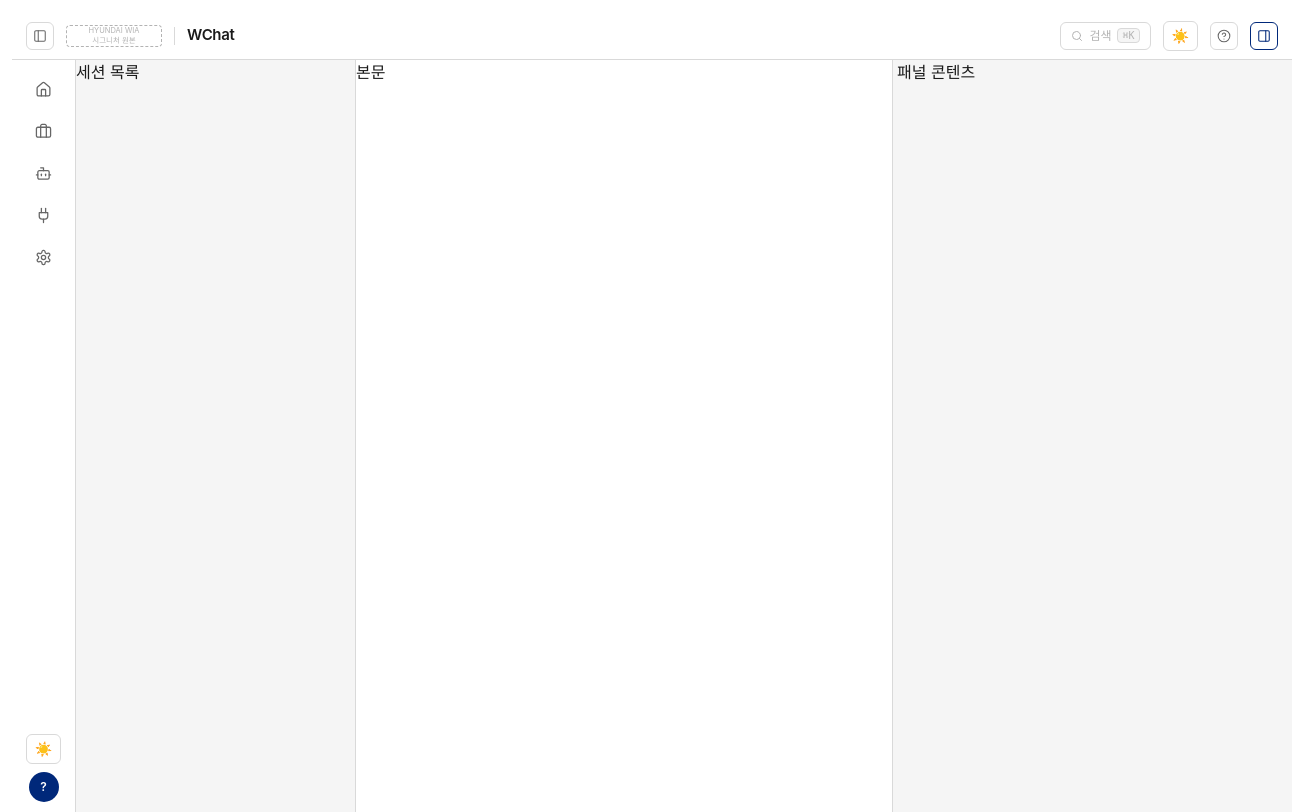
Test: AppShell › 우패널 토글 버튼 클릭 시 우패널이 사라졌다 다시 나타난다
Expected: the element with test id "app-shell-right-panel" is shown, x1=892 y1=60 x2=1291 y2=811
Click the button with test id "app-shell-panel-toggle": click(1264, 36) x1=1250 y1=22 x2=1278 y2=50
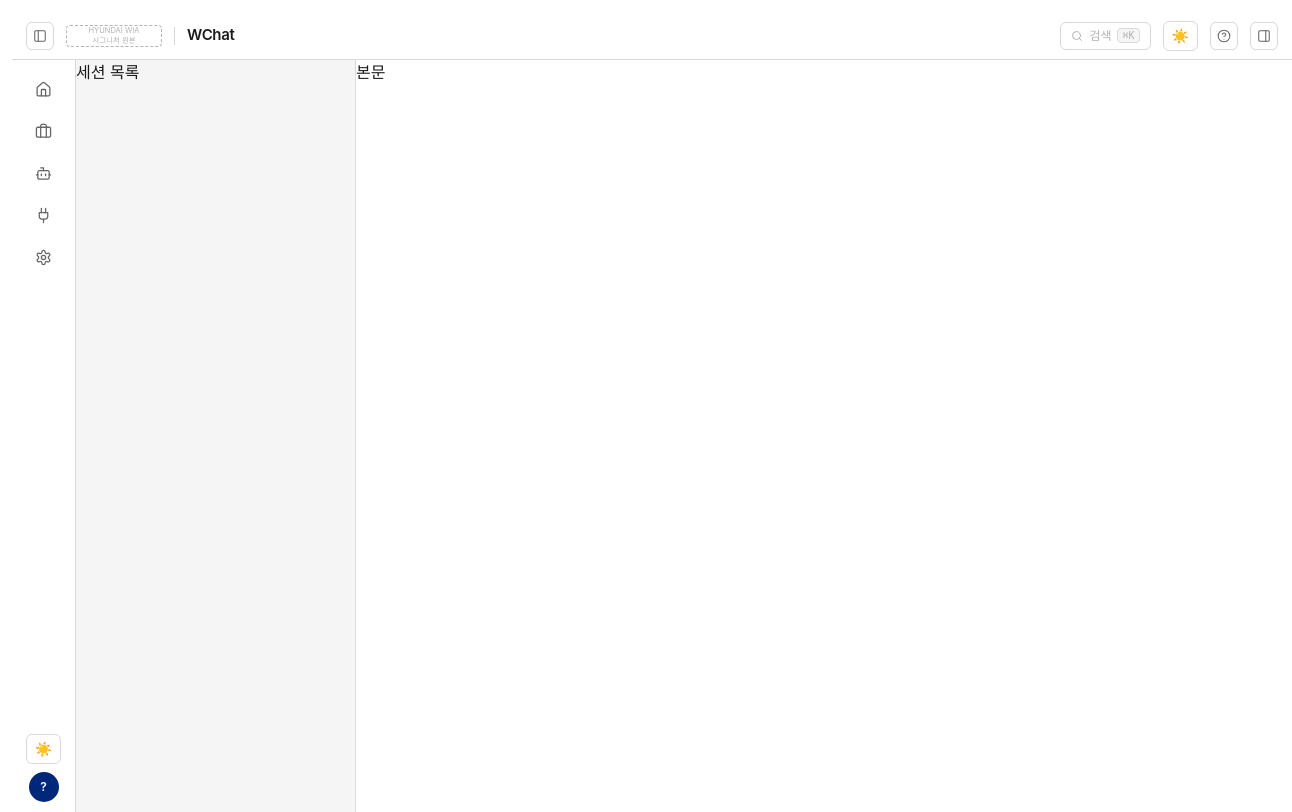
Expected: the element with test id "app-shell-right-panel" is gone
Click the button with test id "app-shell-panel-toggle": click(1264, 36) x1=1250 y1=22 x2=1278 y2=50
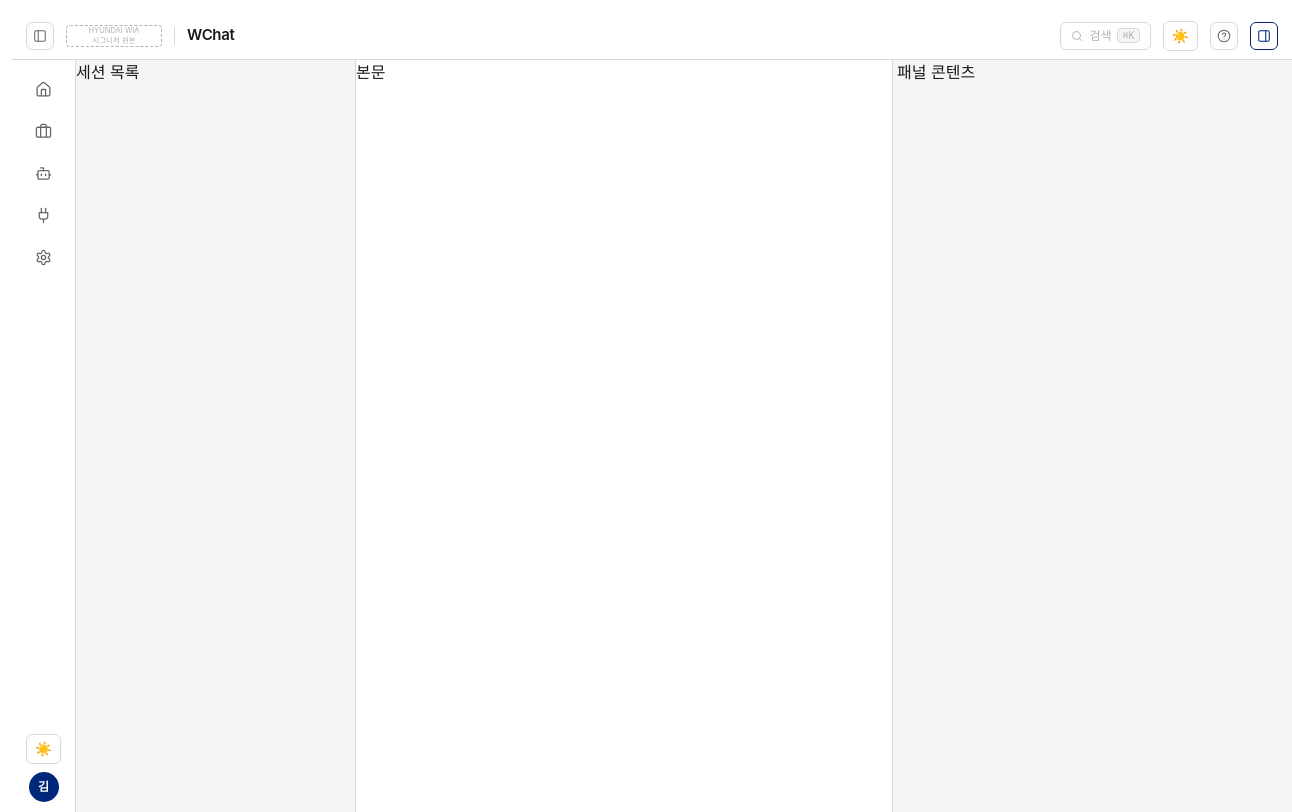
Expected: the element with test id "app-shell-right-panel" is shown, x1=892 y1=60 x2=1291 y2=811
